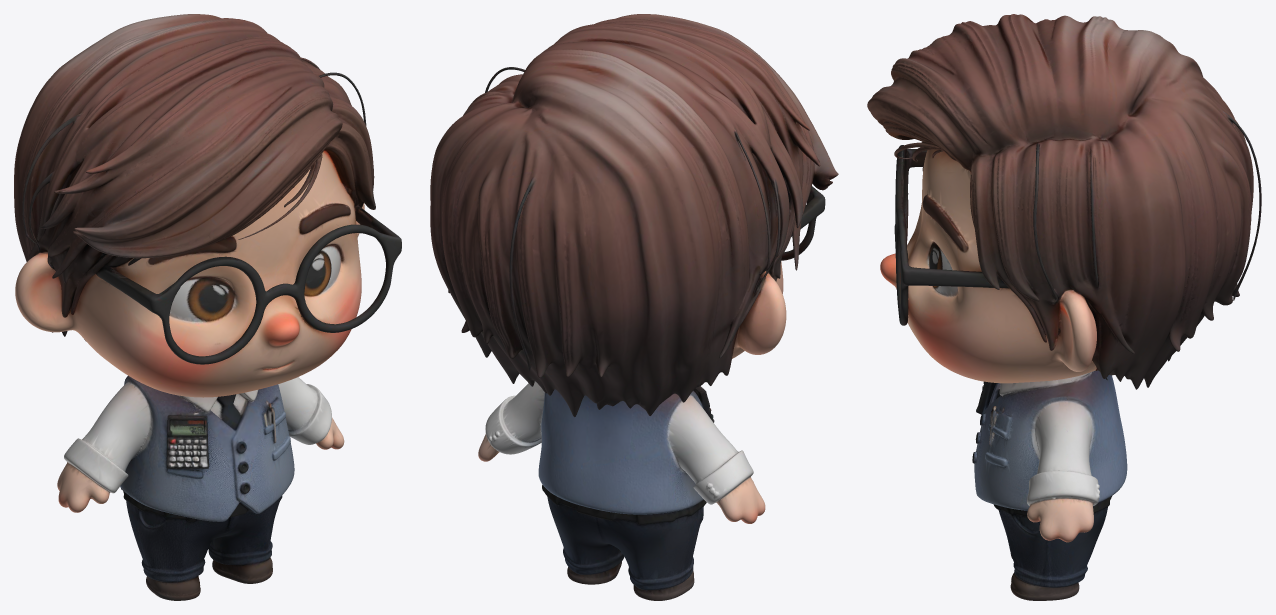
Rendered from bookkeeper.glb.
The picture shows the model from 3 angles, left to right: view 1: azimuth 30°, elevation 25°; view 2: azimuth 150°, elevation 25°; view 3: azimuth 270°, elevation 25°; orthographic projection.
Bounding box in the file's own units: 44123 × 65533 × 43291.
1 material, 1 textured.
